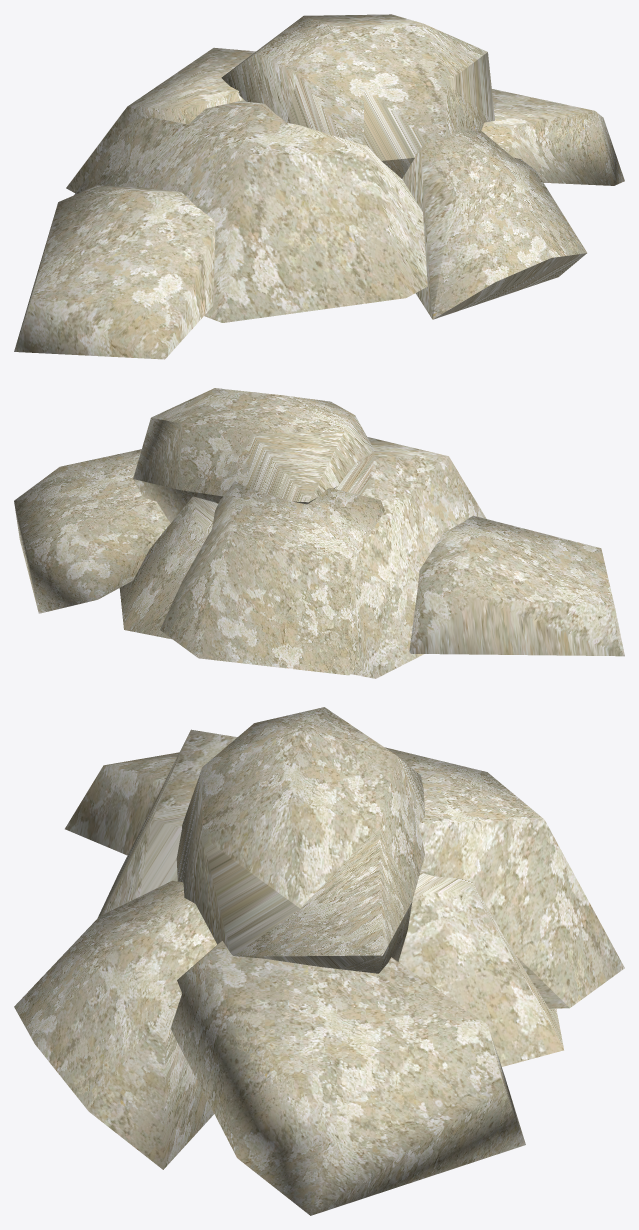
The model's file is rock_formation_a1_l3.fbx.
3 renders of one model, top to bottom at view 1: azimuth 30°, elevation 25°; view 2: azimuth 150°, elevation 25°; view 3: azimuth 270°, elevation 25°, orthographic. The views are drawn at different scales.
Visible parts, largest first — view 1: mesh_node; view 2: mesh_node; view 3: mesh_node.
Boxes of the visible parts, bbox=[...] form: mesh_node: bbox=[14, 14, 624, 359]; mesh_node: bbox=[14, 388, 624, 678]; mesh_node: bbox=[14, 707, 624, 1215].
Bounding box in the file's own units: 14.03 × 5.28 × 8.88.
